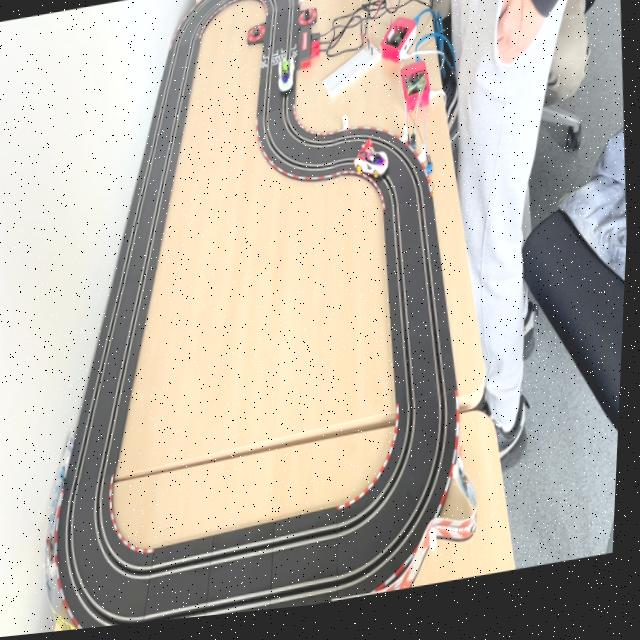mario: (352, 140, 394, 191)
yoshi: (275, 62, 294, 103)
